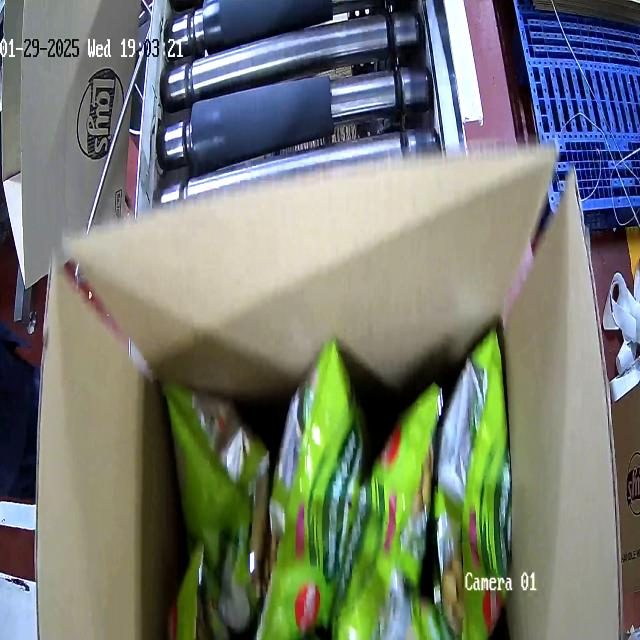YOGURT_HERB: (163, 329, 512, 638)
